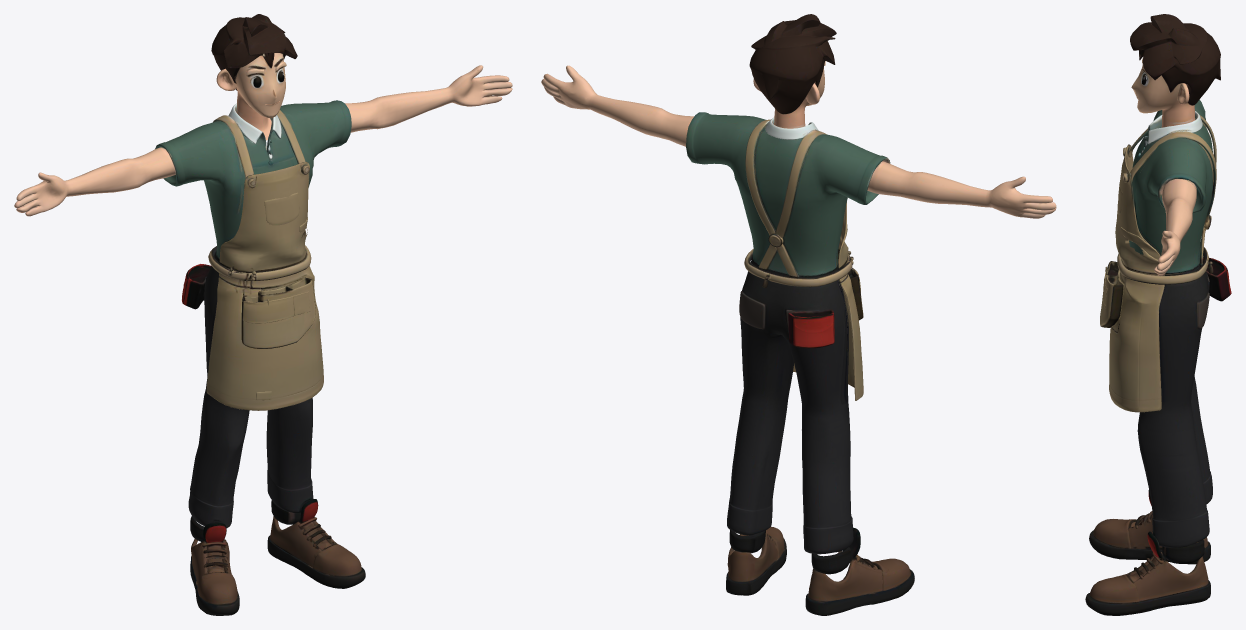
Rendered from toonstudio_market_vendor.glb.
3 renders of one model, left to right at view 1: azimuth 30°, elevation 25°; view 2: azimuth 150°, elevation 25°; view 3: azimuth 270°, elevation 25°, orthographic. The views are drawn at different scales.
Parts seen in each view (by area): view 1: bdf8c535_cfb6_479c_b4e9_1dbf63e4681e; view 2: bdf8c535_cfb6_479c_b4e9_1dbf63e4681e; view 3: bdf8c535_cfb6_479c_b4e9_1dbf63e4681e.
Boxes of the visible parts, left/top/right/bottom form: bdf8c535_cfb6_479c_b4e9_1dbf63e4681e: left=14, top=14, right=512, bottom=615; bdf8c535_cfb6_479c_b4e9_1dbf63e4681e: left=541, top=14, right=1056, bottom=615; bdf8c535_cfb6_479c_b4e9_1dbf63e4681e: left=1085, top=14, right=1231, bottom=615.
Bounding box in the file's own units: 1.59 × 1.7 × 0.4011.
Materials: 1 (1 with a texture image).
